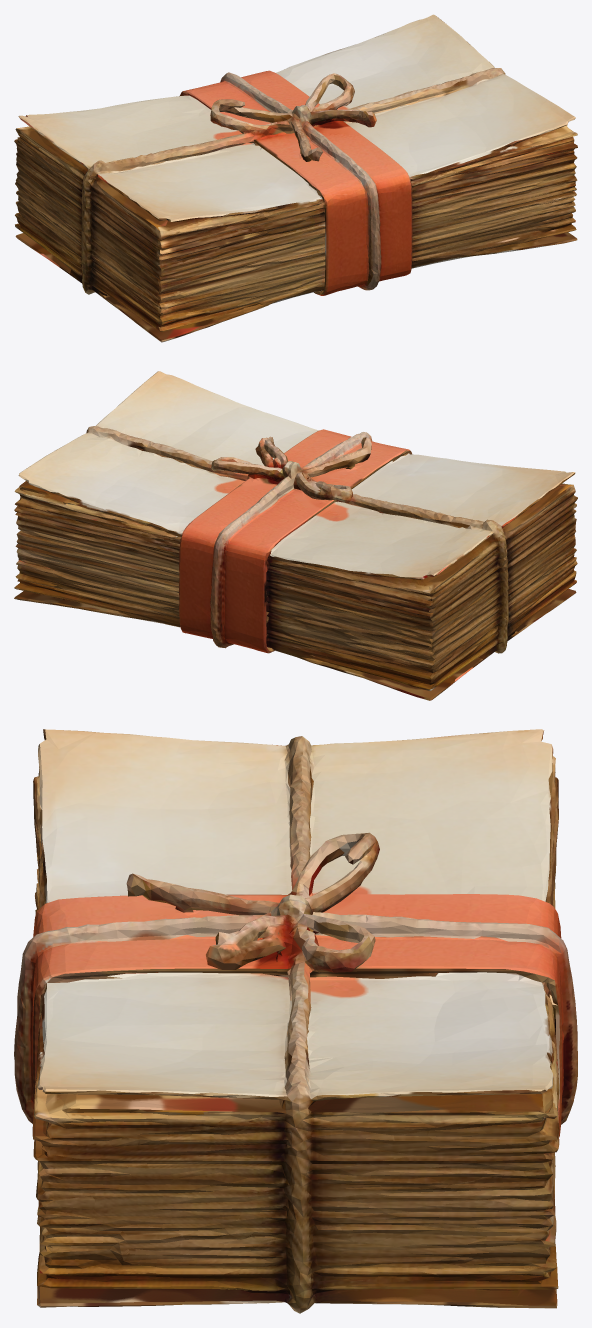
The model's file is hoshi_case_bundle.glb.
3 renders of one model, top to bottom at view 1: azimuth 30°, elevation 25°; view 2: azimuth 150°, elevation 25°; view 3: azimuth 270°, elevation 25°, orthographic. The views are drawn at different scales.
Visible parts, largest first — view 1: temp_mesh.ply; view 2: temp_mesh.ply; view 3: temp_mesh.ply.
Boxes of the visible parts, x1,y1,x2,y2 form: temp_mesh.ply: (14, 14, 577, 342); temp_mesh.ply: (14, 371, 577, 700); temp_mesh.ply: (14, 729, 577, 1313).
Bounding box in the file's own units: 1.98 × 0.6375 × 1.28.
1 material, 1 textured.
